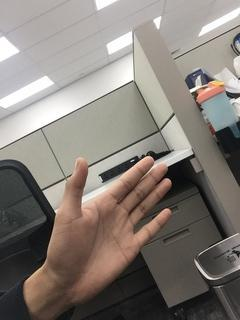hand: (47, 154, 174, 298)
